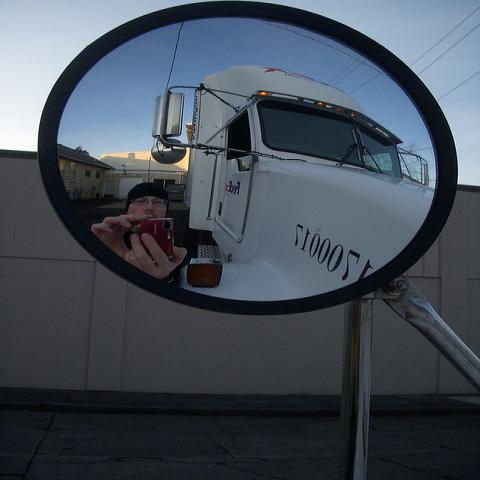truck: (148, 68, 431, 302)
